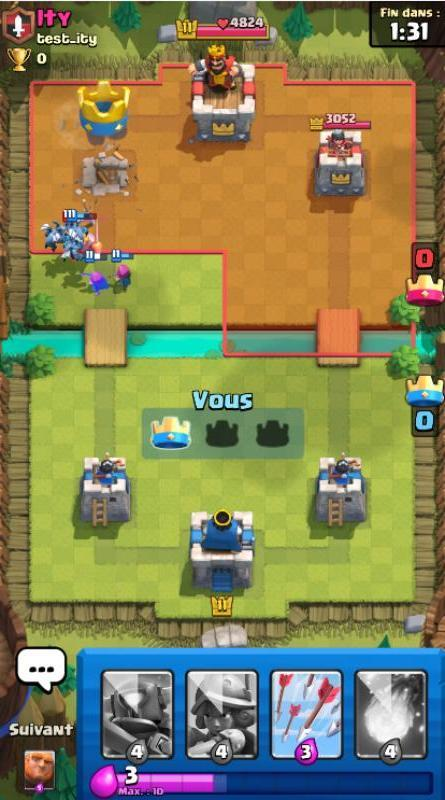player_archers: (76, 260, 112, 295), (109, 253, 137, 290)
player_minions: (39, 219, 67, 249), (61, 228, 87, 257)
